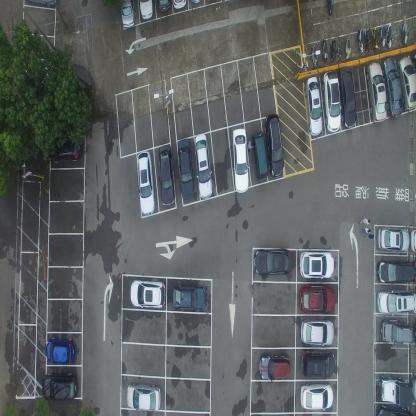car: (382, 57, 404, 119), (366, 60, 387, 123), (264, 111, 283, 178), (136, 149, 155, 216), (195, 130, 213, 198), (378, 373, 413, 407), (304, 74, 323, 136), (232, 127, 249, 194), (299, 282, 334, 314), (323, 69, 341, 131), (338, 70, 356, 130), (159, 140, 175, 206), (301, 315, 335, 346), (253, 247, 292, 274), (300, 350, 335, 380), (42, 372, 78, 401), (299, 250, 335, 279), (129, 279, 166, 307), (178, 136, 194, 200), (398, 56, 416, 112), (48, 135, 81, 164), (125, 383, 160, 410), (250, 131, 269, 180), (376, 290, 414, 314), (171, 283, 206, 309), (300, 384, 334, 410), (376, 226, 410, 252), (376, 260, 414, 282), (258, 354, 290, 380), (380, 319, 412, 345), (45, 336, 74, 363), (120, 0, 136, 28), (376, 405, 412, 415), (138, 0, 154, 22), (156, 0, 172, 14), (172, 0, 188, 11), (410, 228, 416, 254)
